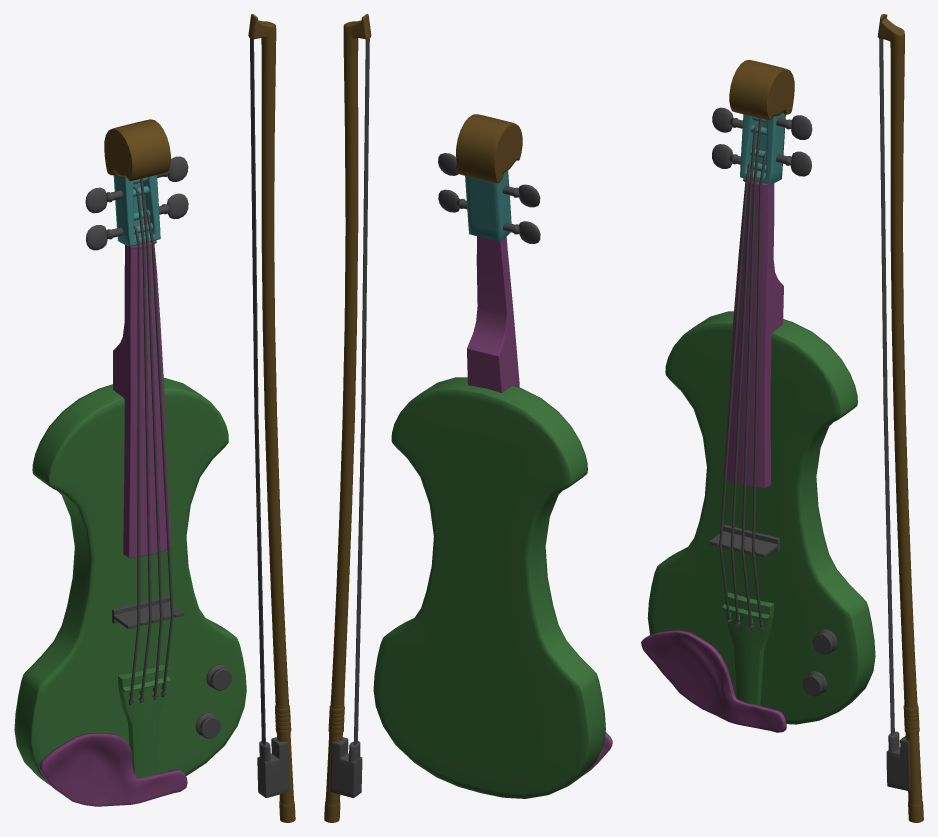
The model's file is Violin_F.fbx.
3 renders of one model, left to right at view 1: azimuth 30°, elevation 25°; view 2: azimuth 150°, elevation 25°; view 3: azimuth 330°, elevation 25°, orthographic. The views are drawn at different scales.
Parts seen in each view (by area): view 1: body_low, stick_low, neck_low, surface_low, tail_low, bow_low, scroll_low, pegbox_low, s4_low, s2_low, s3, s1_low (+6 smaller); view 2: body_low, stick_low, neck_low, scroll_low, bow_low, pegbox_low, frog_low, pegl_low, pegr_low; view 3: body_low, stick_low, neck_low, surface_low, tail_low, bow_low, scroll_low, pegbox_low, s2_low, s3, s1_low, s4_low (+4 smaller).
Part boxes in pixels (<box>): body_low: <box>14,377,246,785</box>; stick_low: <box>248,14,295,822</box>; neck_low: <box>113,240,171,557</box>; surface_low: <box>39,733,187,806</box>; tail_low: <box>118,664,170,777</box>; bow_low: <box>250,38,265,745</box>; scroll_low: <box>104,119,170,181</box>; pegbox_low: <box>113,174,160,246</box>; s4_low: <box>129,225,140,705</box>; s2_low: <box>140,178,162,699</box>; s3: <box>133,187,151,702</box>; s1_low: <box>146,209,173,697</box>; body_low: <box>373,377,605,798</box>; stick_low: <box>324,14,371,822</box>; neck_low: <box>467,236,519,392</box>; scroll_low: <box>456,114,522,183</box>; bow_low: <box>353,38,369,745</box>; pegbox_low: <box>465,170,511,241</box>; frog_low: <box>330,737,362,797</box>; pegl_low: <box>502,184,540,243</box>; pegr_low: <box>438,153,467,212</box>; body_low: <box>647,311,875,724</box>; stick_low: <box>877,14,923,822</box>; neck_low: <box>723,178,783,488</box>; surface_low: <box>641,630,786,732</box>; tail_low: <box>722,592,773,705</box>; bow_low: <box>879,38,894,735</box>; scroll_low: <box>729,60,794,120</box>; pegbox_low: <box>740,113,785,184</box>; s2_low: <box>741,118,761,630</box>; s3: <box>730,124,758,626</box>; s1_low: <box>752,152,766,632</box>; s4_low: <box>719,160,754,624</box>.
Bounding box in the file's own units: 8.11 × 23.15 × 1.9.
